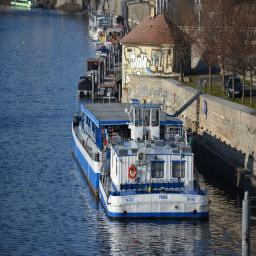tugboat: (71, 97, 214, 227)
